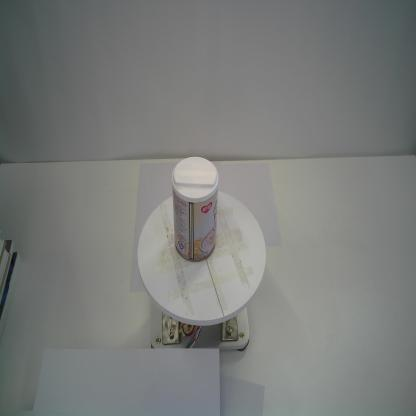Canned Food: (171, 157, 219, 262)
